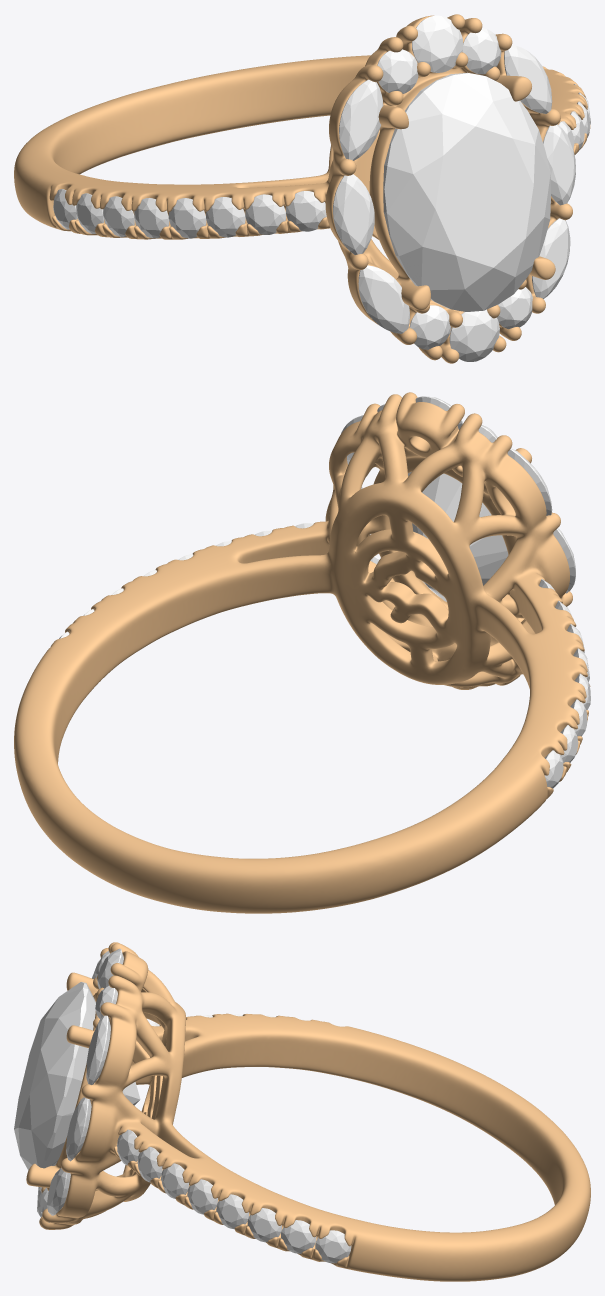
The model's file is TRG9002143_GLB.glb.
The picture shows the model from 3 angles, top to bottom: view 1: azimuth 30°, elevation 25°; view 2: azimuth 150°, elevation 25°; view 3: azimuth 270°, elevation 25°; orthographic projection. The views are drawn at different scales.
Visible parts, largest first — view 1: /TRG9002143_SS.3dm, Diamond_Oval, Diamond_Round (×14), Diamond_Marquise (×6); view 2: /TRG9002143_SS.3dm, Diamond_Oval; view 3: /TRG9002143_SS.3dm, Diamond_Oval, Diamond_Round (×9), Diamond_Marquise (×3).
Boxes of the visible parts, <box> form: /TRG9002143_SS.3dm: <box>14,14,590,363</box>; Diamond_Oval: <box>383,72,550,311</box>; Diamond_Round (×14): <box>53,15,532,361</box>; Diamond_Marquise (×6): <box>333,45,575,333</box>; /TRG9002143_SS.3dm: <box>14,392,590,913</box>; Diamond_Oval: <box>408,472,508,601</box>; /TRG9002143_SS.3dm: <box>26,942,590,1281</box>; Diamond_Oval: <box>14,982,140,1170</box>; Diamond_Round (×9): <box>97,948,351,1263</box>; Diamond_Marquise (×3): <box>47,1015,110,1215</box>.
Bounding box in the file's own units: 2.43 × 1.46 × 2.82.
